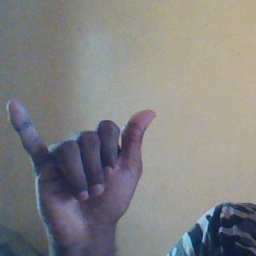J: (7, 95, 157, 231)
